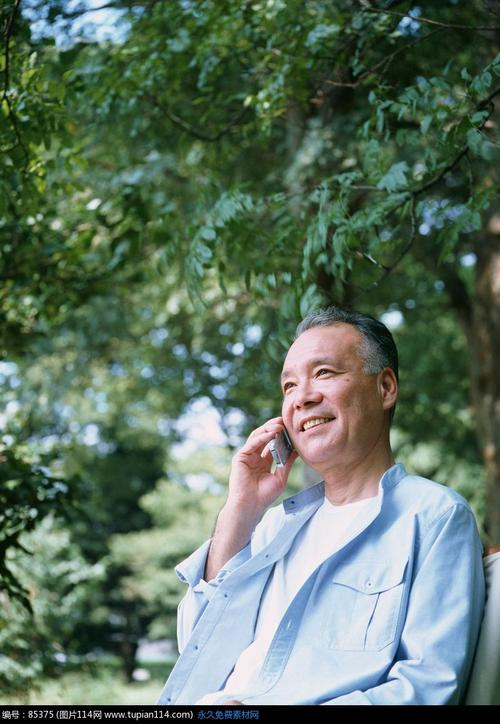calling: (225, 414, 303, 509)
